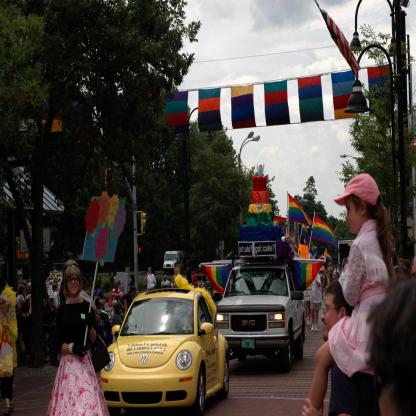Car: (100, 286, 229, 416), (218, 262, 306, 372), (91, 288, 116, 309)
